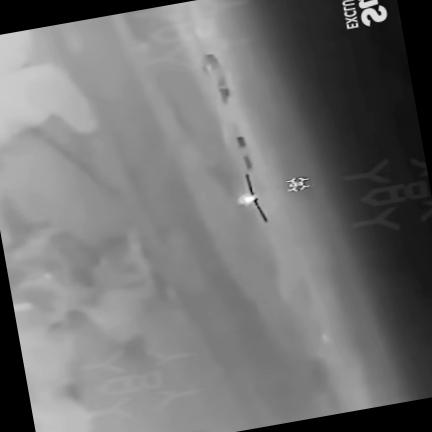Shahed: (237, 173, 267, 221)
